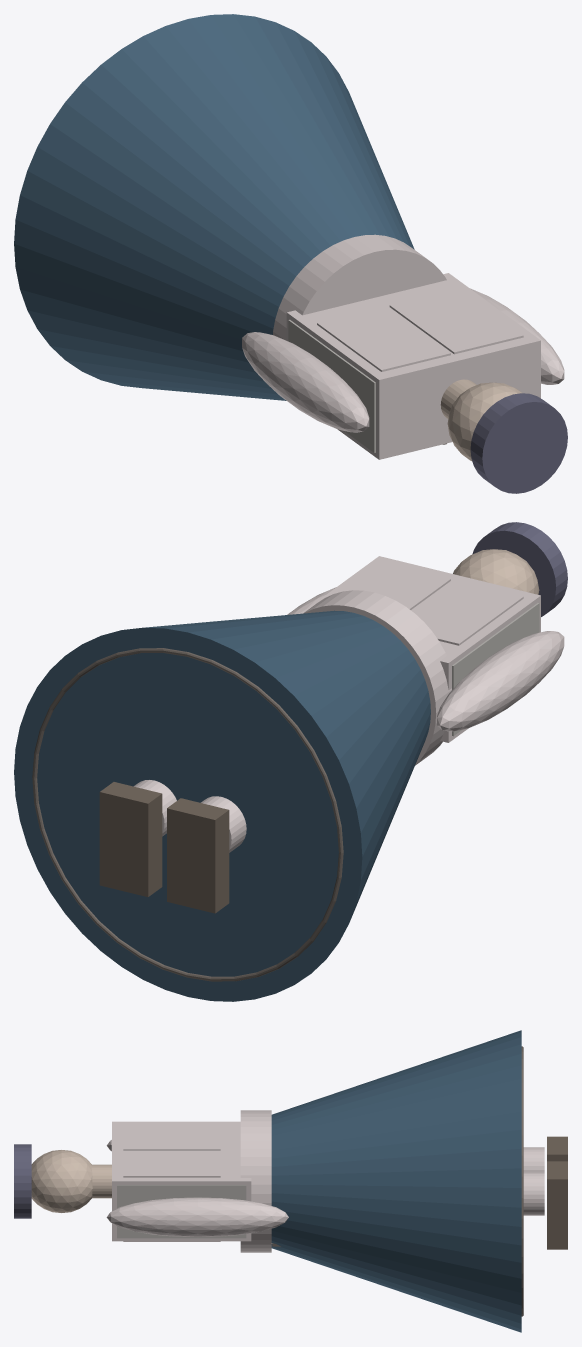
File: MASTER_048_STAGE3_DETAIL.glb
3 views of the same model, one above another, from view 1: azimuth 30°, elevation 25°; view 2: azimuth 150°, elevation 25°; view 3: azimuth 270°, elevation 25° (orthographic). The views are drawn at different scales.
Parts seen in each view (by area): view 1: slot_lower_main__fund_i_gjatë, slot_upper_inner__këmishë, slot_waist__brez, slot_headwear__mbulesë_koke, slot_upper_inner_sleeve_L, slot_upper_outer__jelek/xhamadan_L, slot_upper_outer__jelek/xhamadan_R, mannequin_torso, mannequin_head, slot_upper_inner_sleeve_R; view 2: slot_lower_main__fund_i_gjatë, slot_footwear__opinga_R, slot_footwear__opinga_L, slot_upper_inner_sleeve_L, detail_skirt_hem, slot_waist__brez, slot_upper_outer__jelek/xhamadan_L, slot_headwear__mbulesë_koke, slot_upper_inner__këmishë, slot_upper_outer__jelek/xhamadan_R, mannequin_head, mannequin_torso (+2 smaller); view 3: slot_lower_main__fund_i_gjatë, slot_upper_inner_sleeve_R, slot_upper_inner__këmishë, mannequin_head, slot_waist__brez, slot_upper_outer__jelek/xhamadan_R, slot_upper_outer__jelek/xhamadan_L, mannequin_torso, slot_footwear__opinga_R, slot_headwear__mbulesë_koke, slot_legwear__çorape_R, detail_skirt_hem (+3 smaller).
Part boxes in pixels (<box>): slot_lower_main__fund_i_gjatë: <box>14,14,414,400</box>; slot_upper_inner__këmishë: <box>286,273,540,459</box>; slot_waist__brez: <box>273,234,446,341</box>; slot_headwear__mbulesë_koke: <box>470,393,567,493</box>; slot_upper_inner_sleeve_L: <box>242,332,369,432</box>; slot_upper_outer__jelek/xhamadan_L: <box>317,306,450,371</box>; slot_upper_outer__jelek/xhamadan_R: <box>389,288,523,354</box>; mannequin_torso: <box>288,319,375,452</box>; mannequin_head: <box>447,382,522,460</box>; slot_upper_inner_sleeve_R: <box>470,288,564,384</box>; slot_lower_main__fund_i_gjatë: <box>14,610,430,1001</box>; slot_footwear__opinga_R: <box>99,782,162,896</box>; slot_footwear__opinga_L: <box>167,798,229,913</box>; slot_upper_inner_sleeve_L: <box>437,631,564,731</box>; detail_skirt_hem: <box>32,648,343,981</box>; slot_waist__brez: <box>303,590,451,765</box>; slot_upper_outer__jelek/xhamadan_L: <box>412,579,523,645</box>; slot_headwear__mbulesë_koke: <box>472,522,567,616</box>; slot_upper_inner__këmishë: <box>301,556,540,742</box>; slot_upper_outer__jelek/xhamadan_R: <box>341,562,450,609</box>; mannequin_head: <box>453,549,539,594</box>; mannequin_torso: <box>452,603,539,736</box>; slot_lower_main__fund_i_gjatë: <box>271,1030,521,1332</box>; slot_upper_inner_sleeve_R: <box>106,1197,288,1237</box>; slot_upper_inner__këmishë: <box>112,1121,251,1241</box>; mannequin_head: <box>31,1150,92,1212</box>; slot_waist__brez: <box>240,1110,271,1252</box>; slot_upper_outer__jelek/xhamadan_R: <box>123,1150,220,1241</box>; slot_upper_outer__jelek/xhamadan_L: <box>123,1123,220,1150</box>; mannequin_torso: <box>117,1185,246,1238</box>; slot_footwear__opinga_R: <box>547,1161,567,1249</box>; slot_headwear__mbulesë_koke: <box>14,1144,31,1218</box>; slot_legwear__çorape_R: <box>523,1172,544,1215</box>; detail_skirt_hem: <box>521,1046,523,1316</box>.
Bounding box in the file's own units: 0.9355 × 0.9355 × 1.71.
